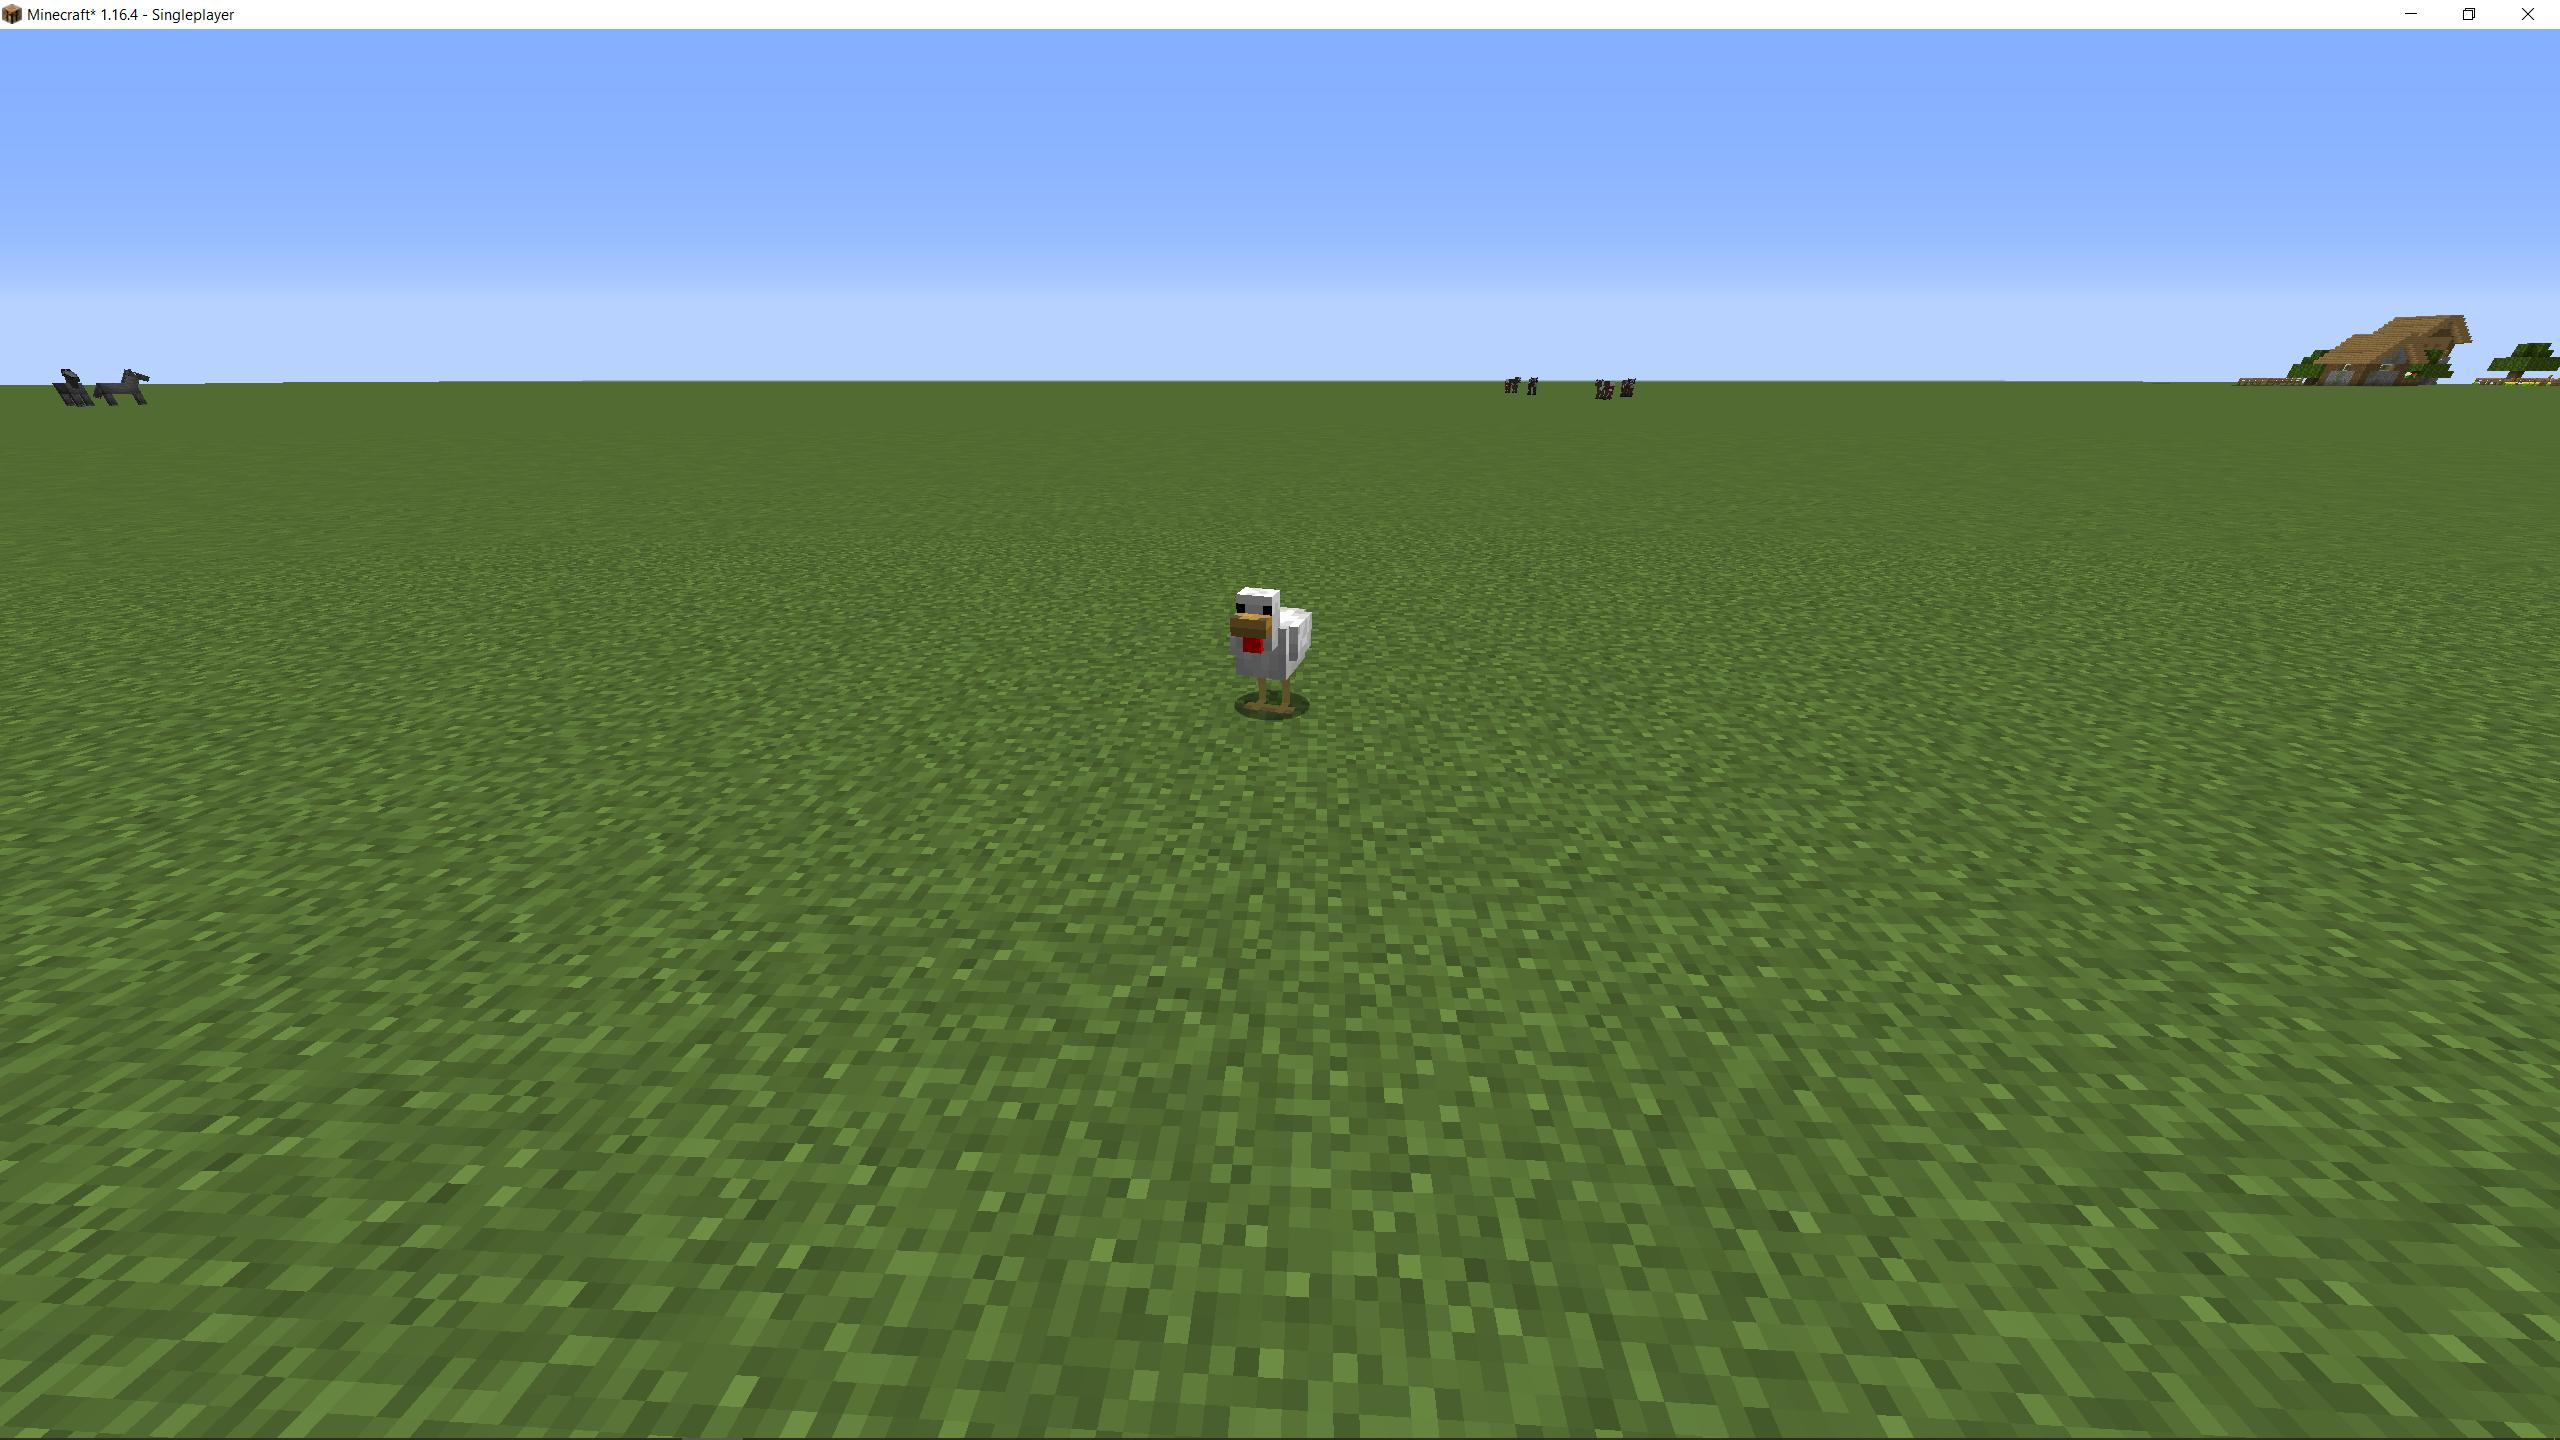chicken: (1224, 584, 1320, 724)
